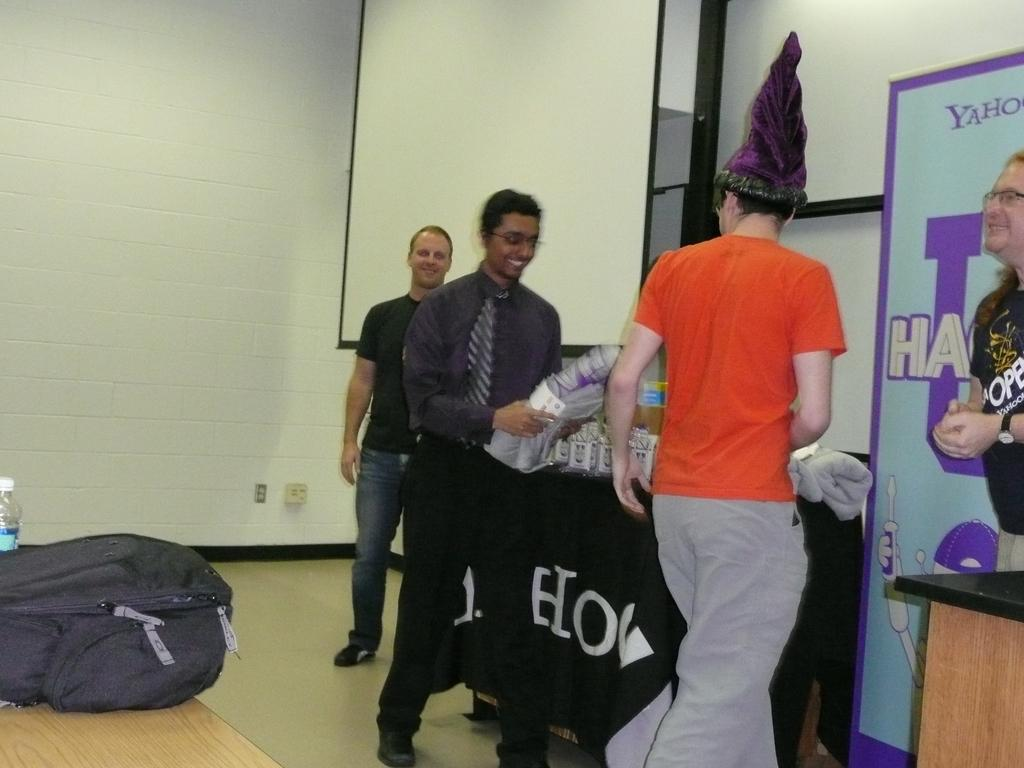Luggage-and-bags: (19, 534, 244, 716)
